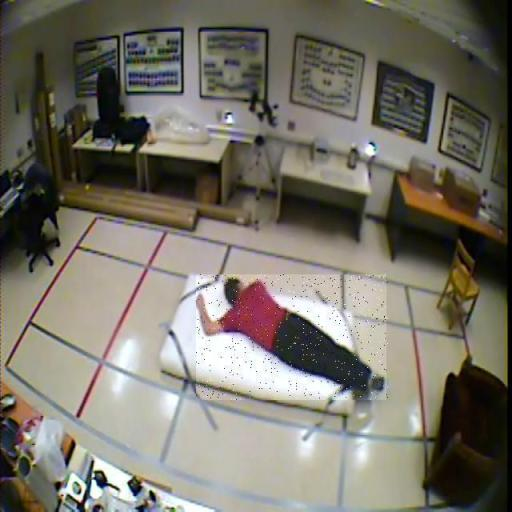Fall: (197, 274, 389, 400)
